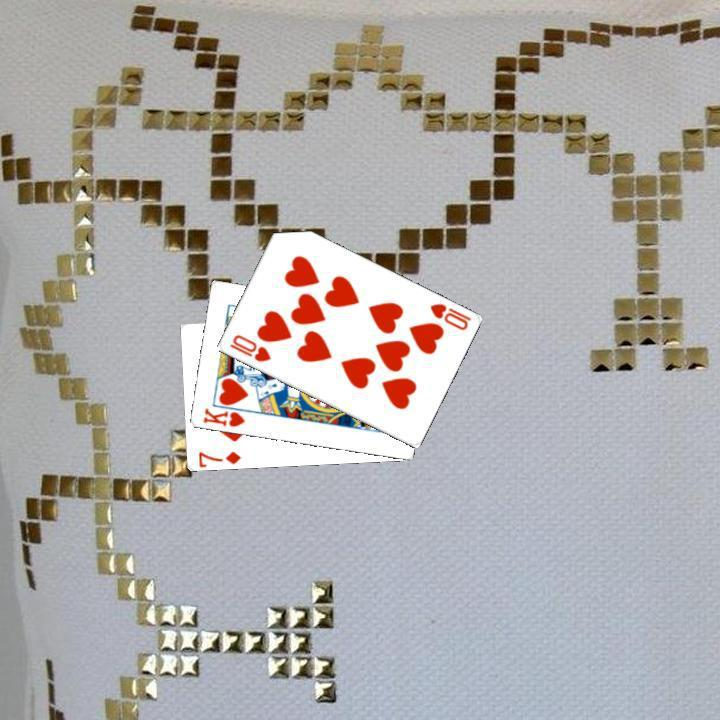10: (225, 330, 273, 364), (425, 299, 472, 333)
7: (193, 447, 243, 468)
K: (199, 404, 247, 429)
